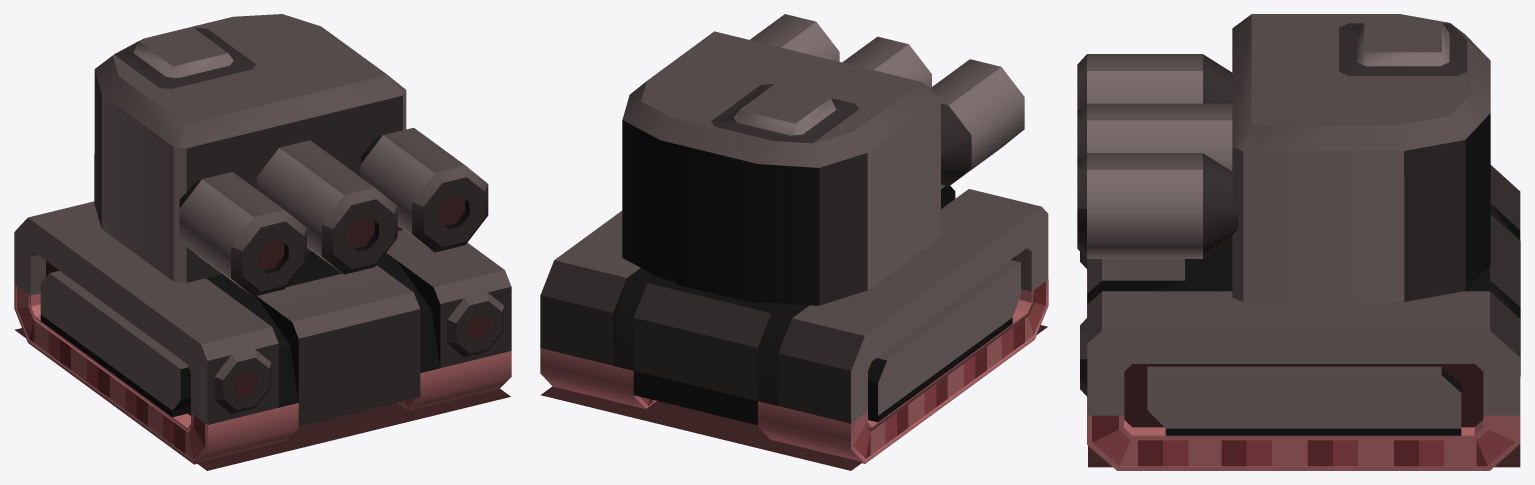
Rendered from MegaTankMesh.NoireEclipse.glb.
3 views of the same model, side by side, from view 1: azimuth 30°, elevation 25°; view 2: azimuth 150°, elevation 25°; view 3: azimuth 270°, elevation 25° (orthographic). The views are drawn at different scales.
Parts seen in each view (by area): view 1: MegaTankMesh.NoireEclipse; view 2: MegaTankMesh.NoireEclipse; view 3: MegaTankMesh.NoireEclipse.
Part boxes in pixels (box(x1,y1,x2,y2)): MegaTankMesh.NoireEclipse: box(14, 14, 511, 470); MegaTankMesh.NoireEclipse: box(540, 14, 1048, 470); MegaTankMesh.NoireEclipse: box(1077, 14, 1520, 470).
Bounding box in the file's own units: 2 × 1.86 × 2.25.
Materials: 1 (1 with a texture image).
